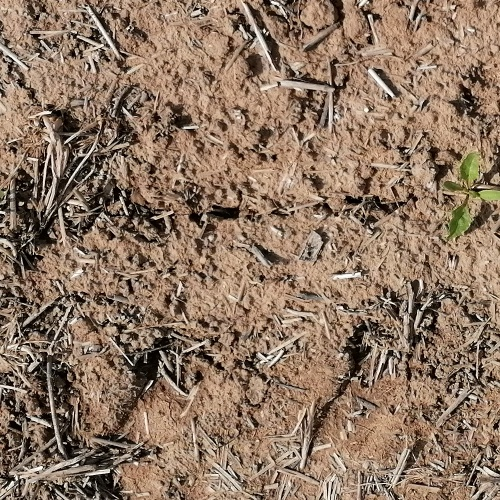beet: (442, 153, 500, 239)
